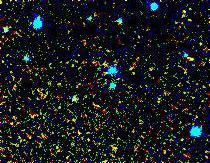star: (137, 58, 167, 88)
